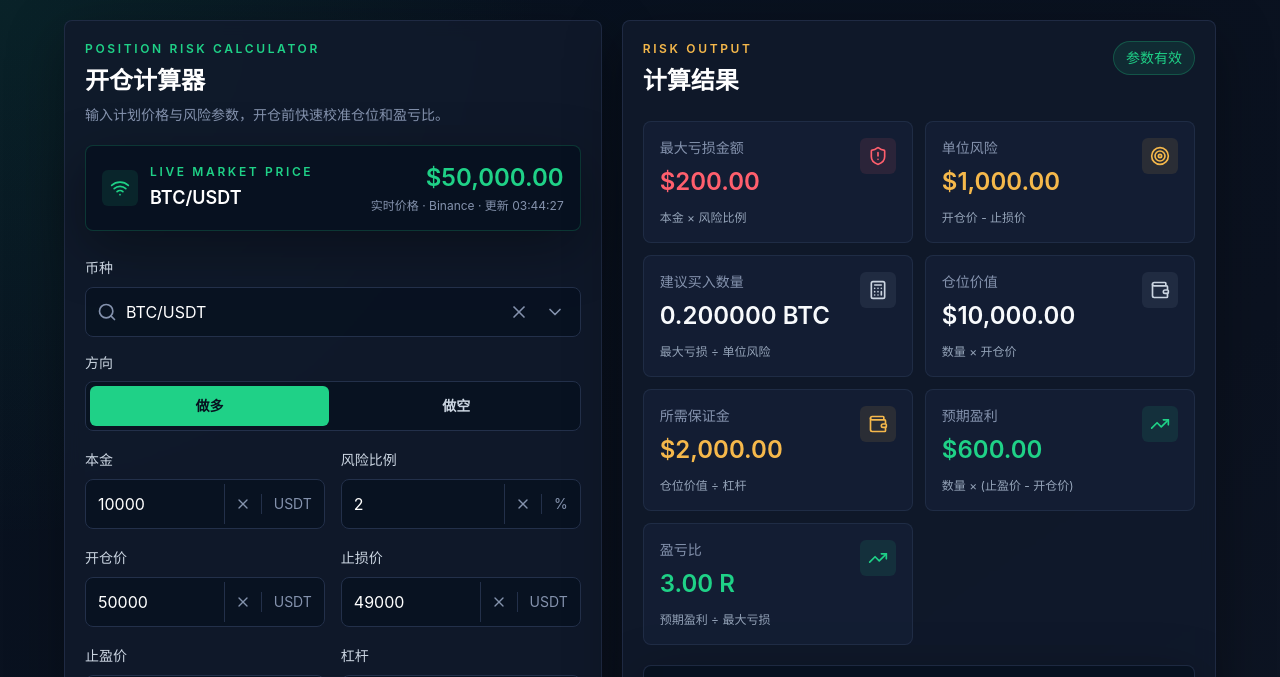
Test: PositionCalculator › clears the symbol search field with one click
This screenshot has width=1280, height=677.
Expected: the text "$50,000.00" is shown, [426,163,564,192]
What coordinates should you click on to do the following:
click the button named "清空币种"
I would click on:
 (519, 312)
Its box is [501,294,537,330].
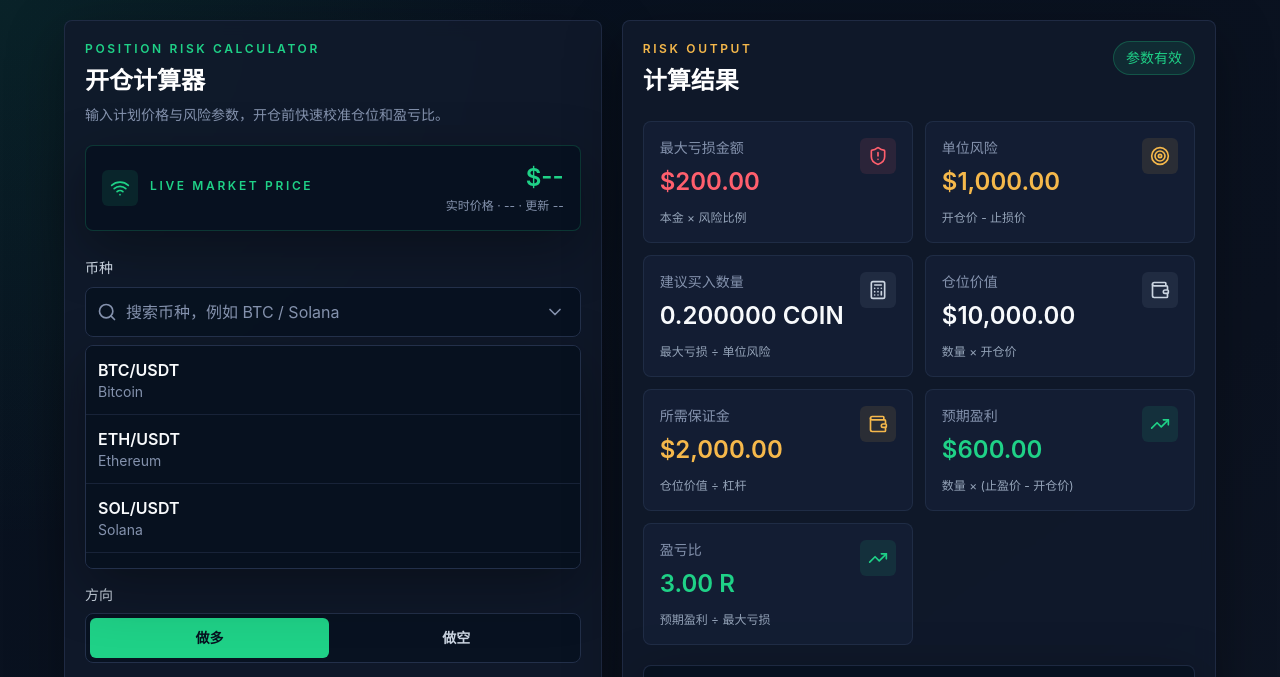
Expected: the dropdown labelled "币种" is empty, [85,287,581,337]
